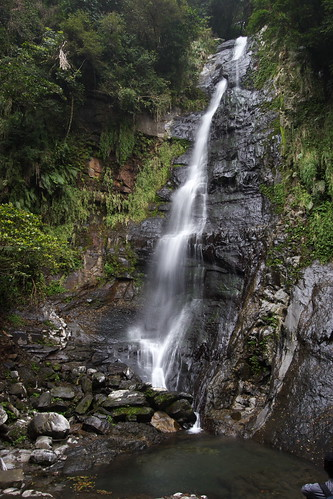wufengciWaterfall: (121, 20, 261, 429)
